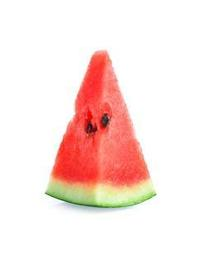watermelon: (44, 49, 166, 209)
